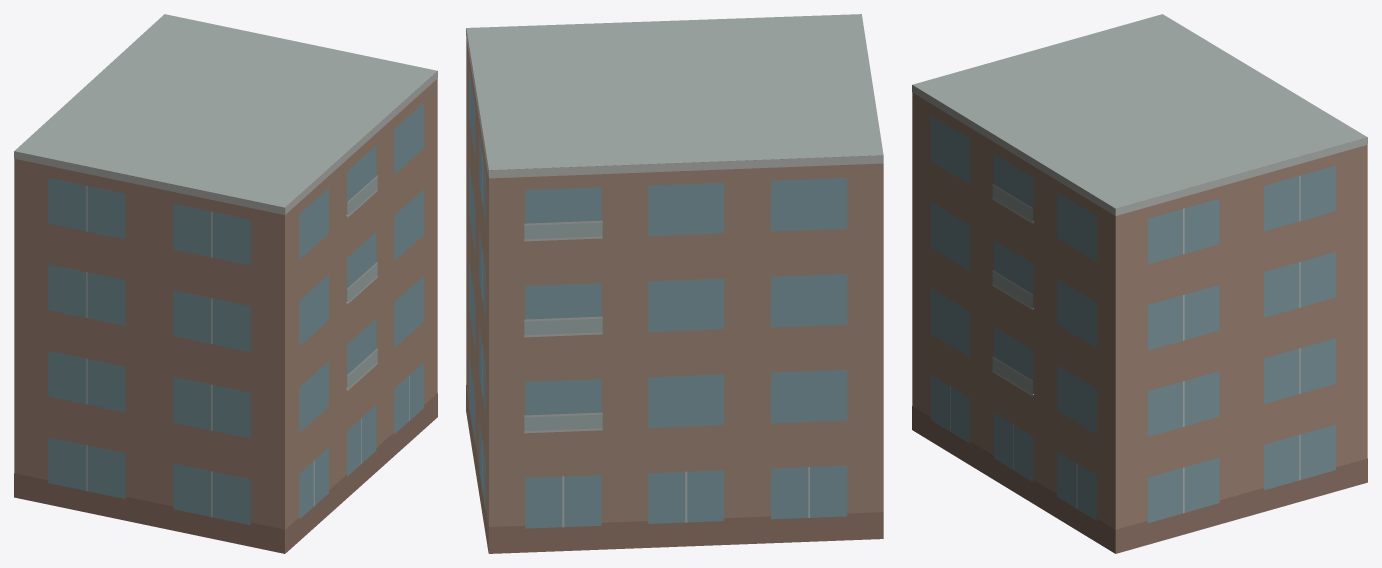
Rendered from survey-upis-32763812.glb.
3 renders of one model, left to right at view 1: azimuth 30°, elevation 25°; view 2: azimuth 150°, elevation 25°; view 3: azimuth 270°, elevation 25°, orthographic. The views are drawn at different scales.
Parts seen in each view (by area): view 1: survey-upis-32763812.tmp; view 2: survey-upis-32763812.tmp; view 3: survey-upis-32763812.tmp.
Part boxes in pixels (x1,y1,x2,y2): survey-upis-32763812.tmp: [14, 14, 437, 553]; survey-upis-32763812.tmp: [466, 14, 883, 553]; survey-upis-32763812.tmp: [912, 14, 1367, 553].
Bounding box in the file's own units: 13.67 × 11.3 × 13.53.
